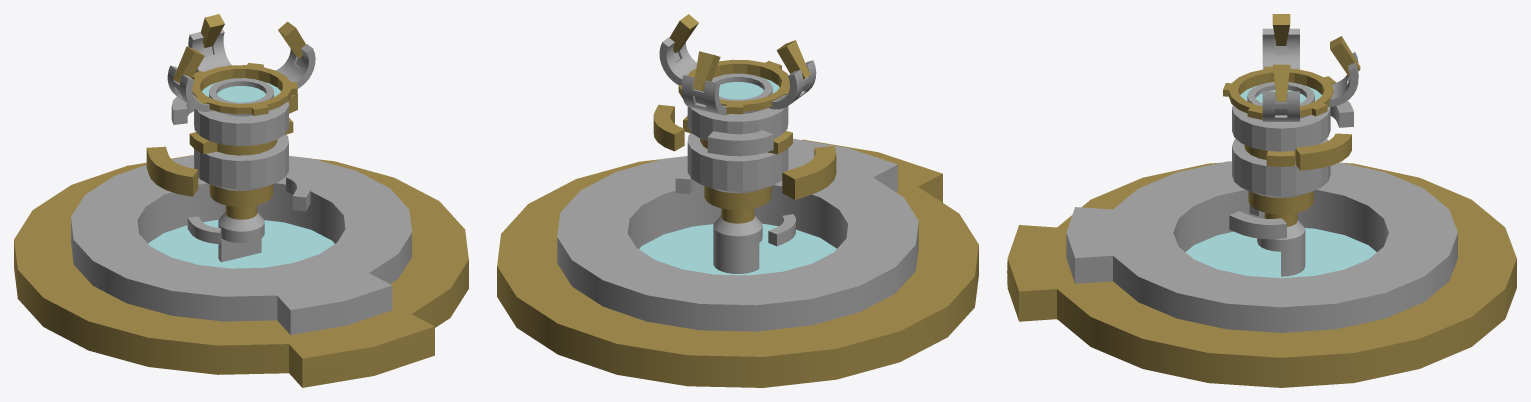
Rendered from altar.fbx.
3 renders of one model, left to right at view 1: azimuth 30°, elevation 25°; view 2: azimuth 150°, elevation 25°; view 3: azimuth 270°, elevation 25°, orthographic. The views are drawn at different scales.
Visible parts, largest first — view 1: pCylinder1, pCylinder2, pCube13, pCube12; view 2: pCylinder1, pCylinder2, pCube12, pCube13; view 3: pCylinder1, pCylinder2, pCube13, pCube12.
Boxes of the visible parts, <box> form: pCylinder1: <box>14,155,468,387</box>; pCylinder2: <box>189,62,297,262</box>; pCube13: <box>167,14,315,111</box>; pCube12: <box>146,94,310,244</box>; pCylinder1: <box>497,138,978,387</box>; pCylinder2: <box>678,59,792,273</box>; pCube12: <box>653,104,836,246</box>; pCube13: <box>659,14,816,115</box>; pCylinder1: <box>1007,161,1516,387</box>; pCylinder2: <box>1223,66,1335,276</box>; pCube13: <box>1262,14,1360,121</box>; pCube12: <box>1229,101,1353,239</box>.
Bounding box in the file's own units: 9.56 × 5.57 × 10.34.
